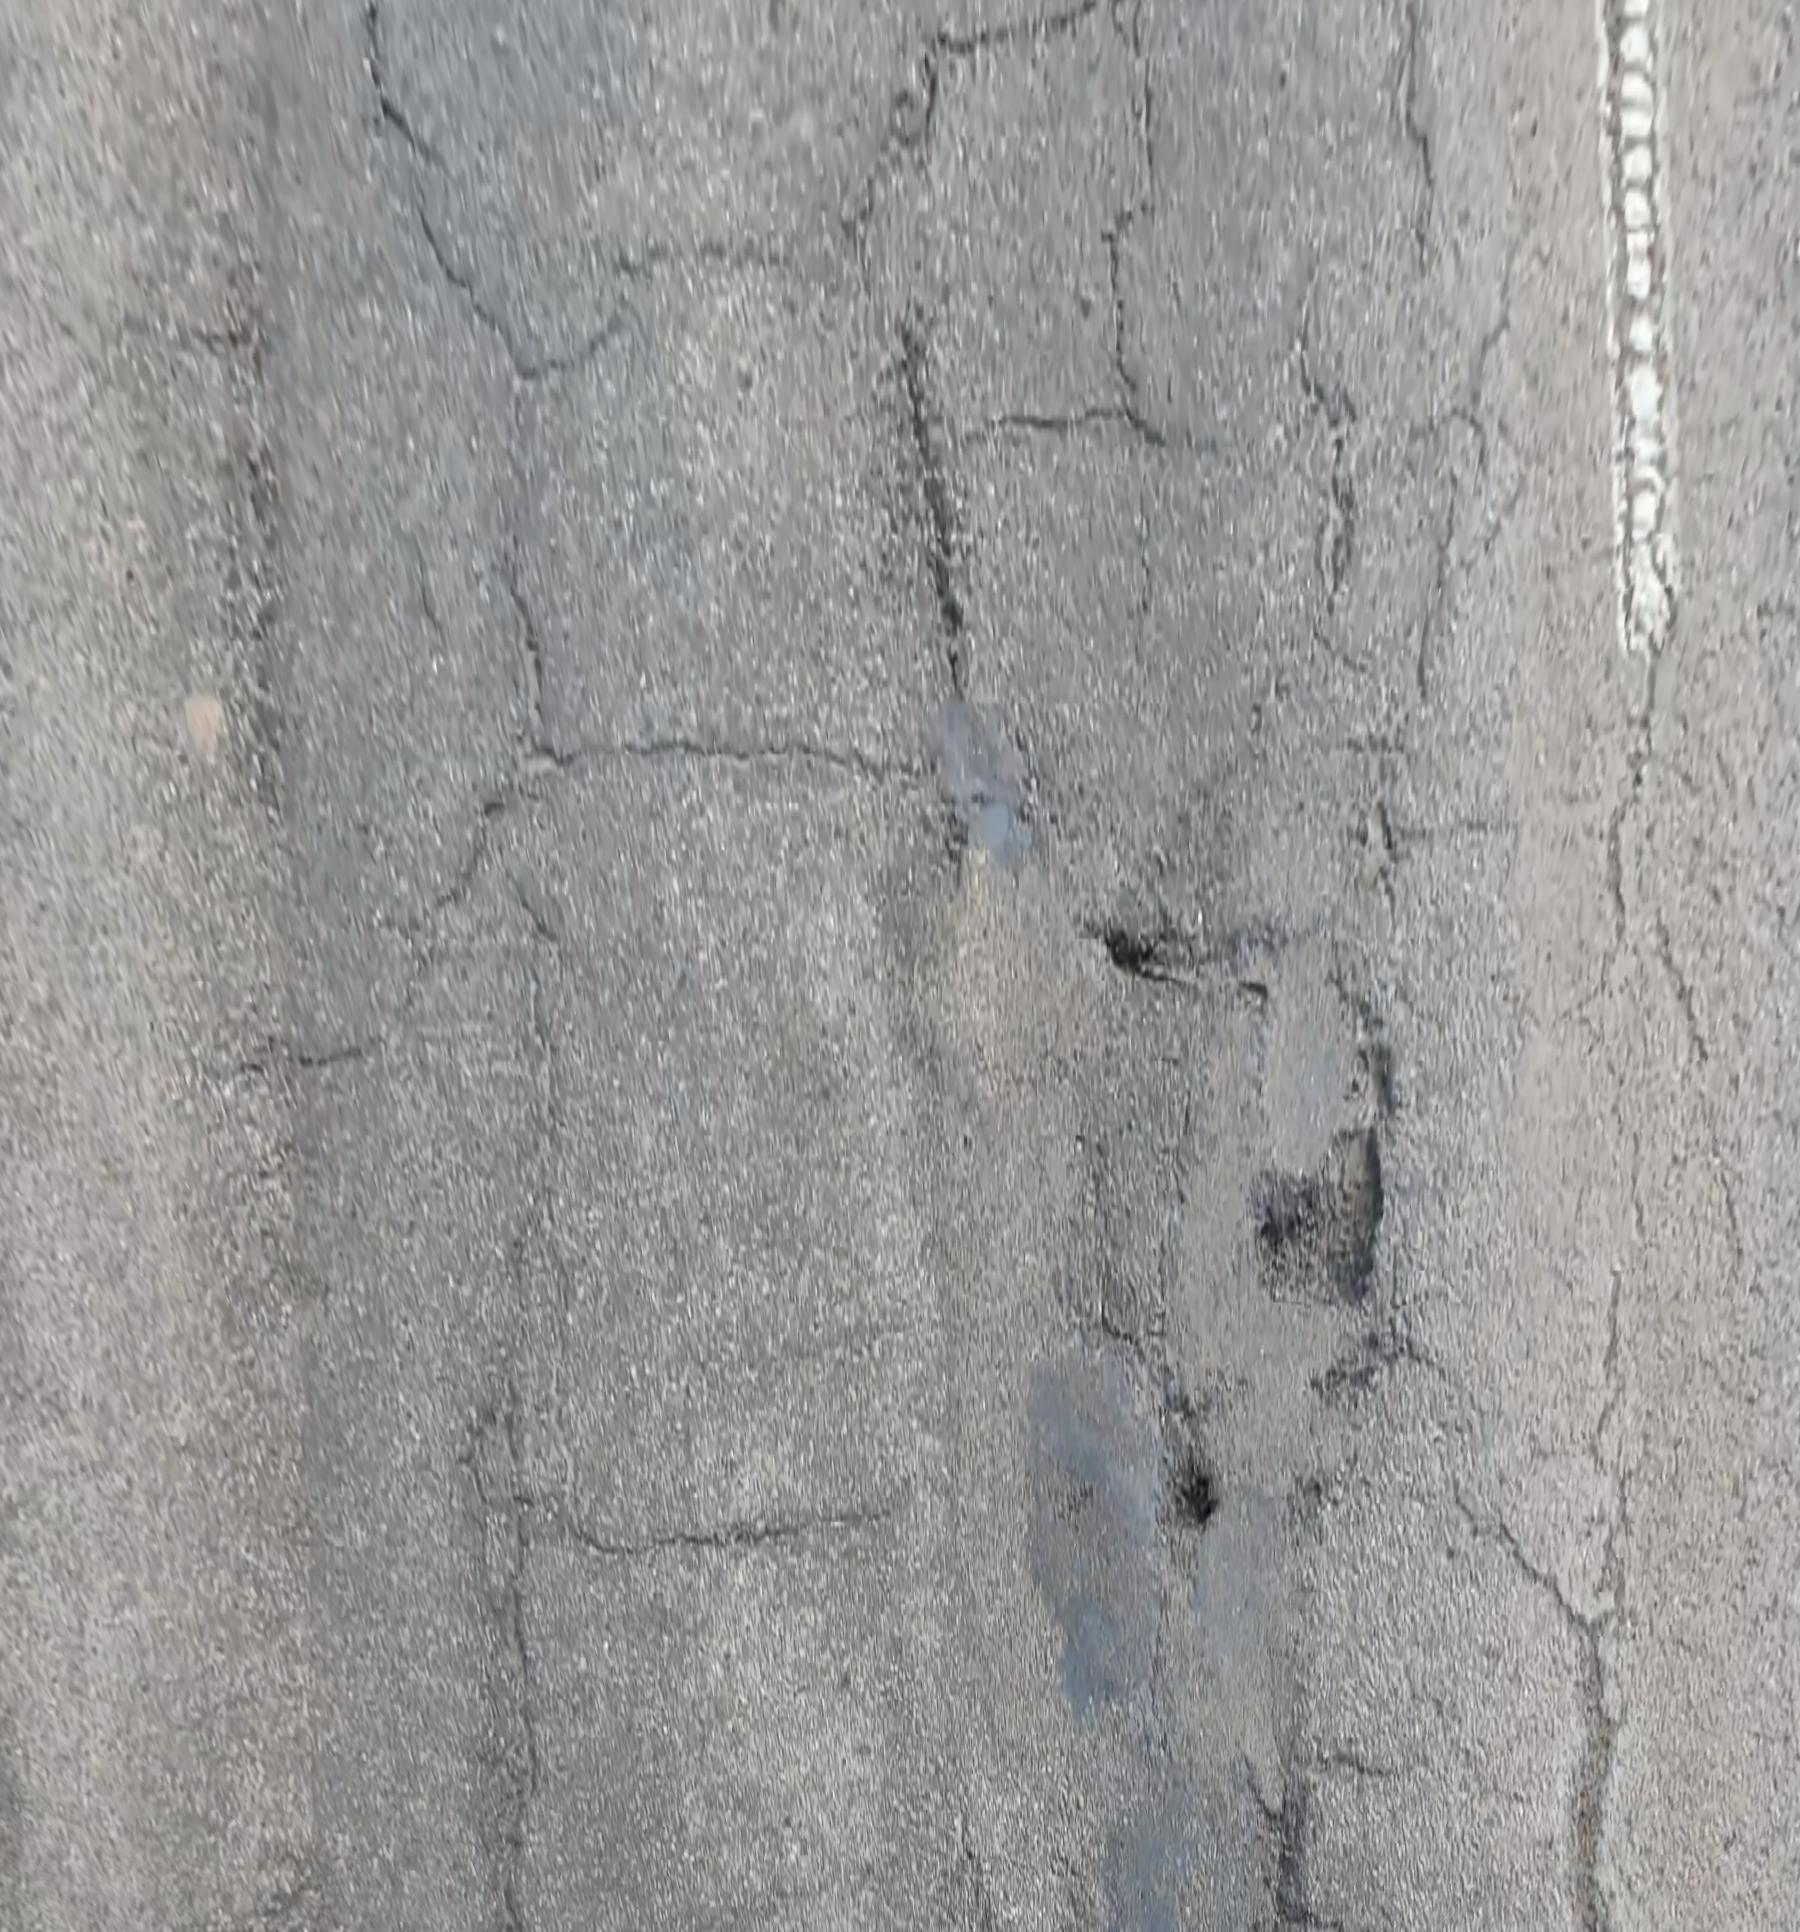pothole: (1237, 1117, 1387, 1318), (1145, 1450, 1227, 1543), (1098, 927, 1142, 976)
